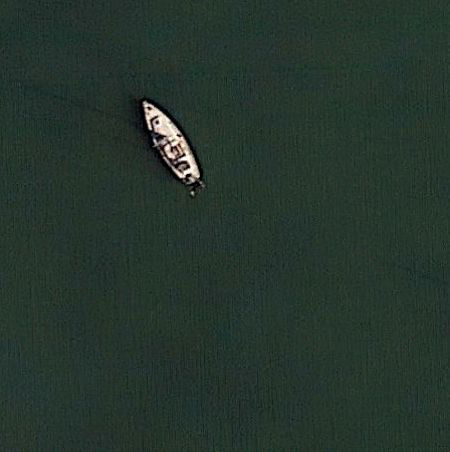boat: (135, 95, 206, 194)
